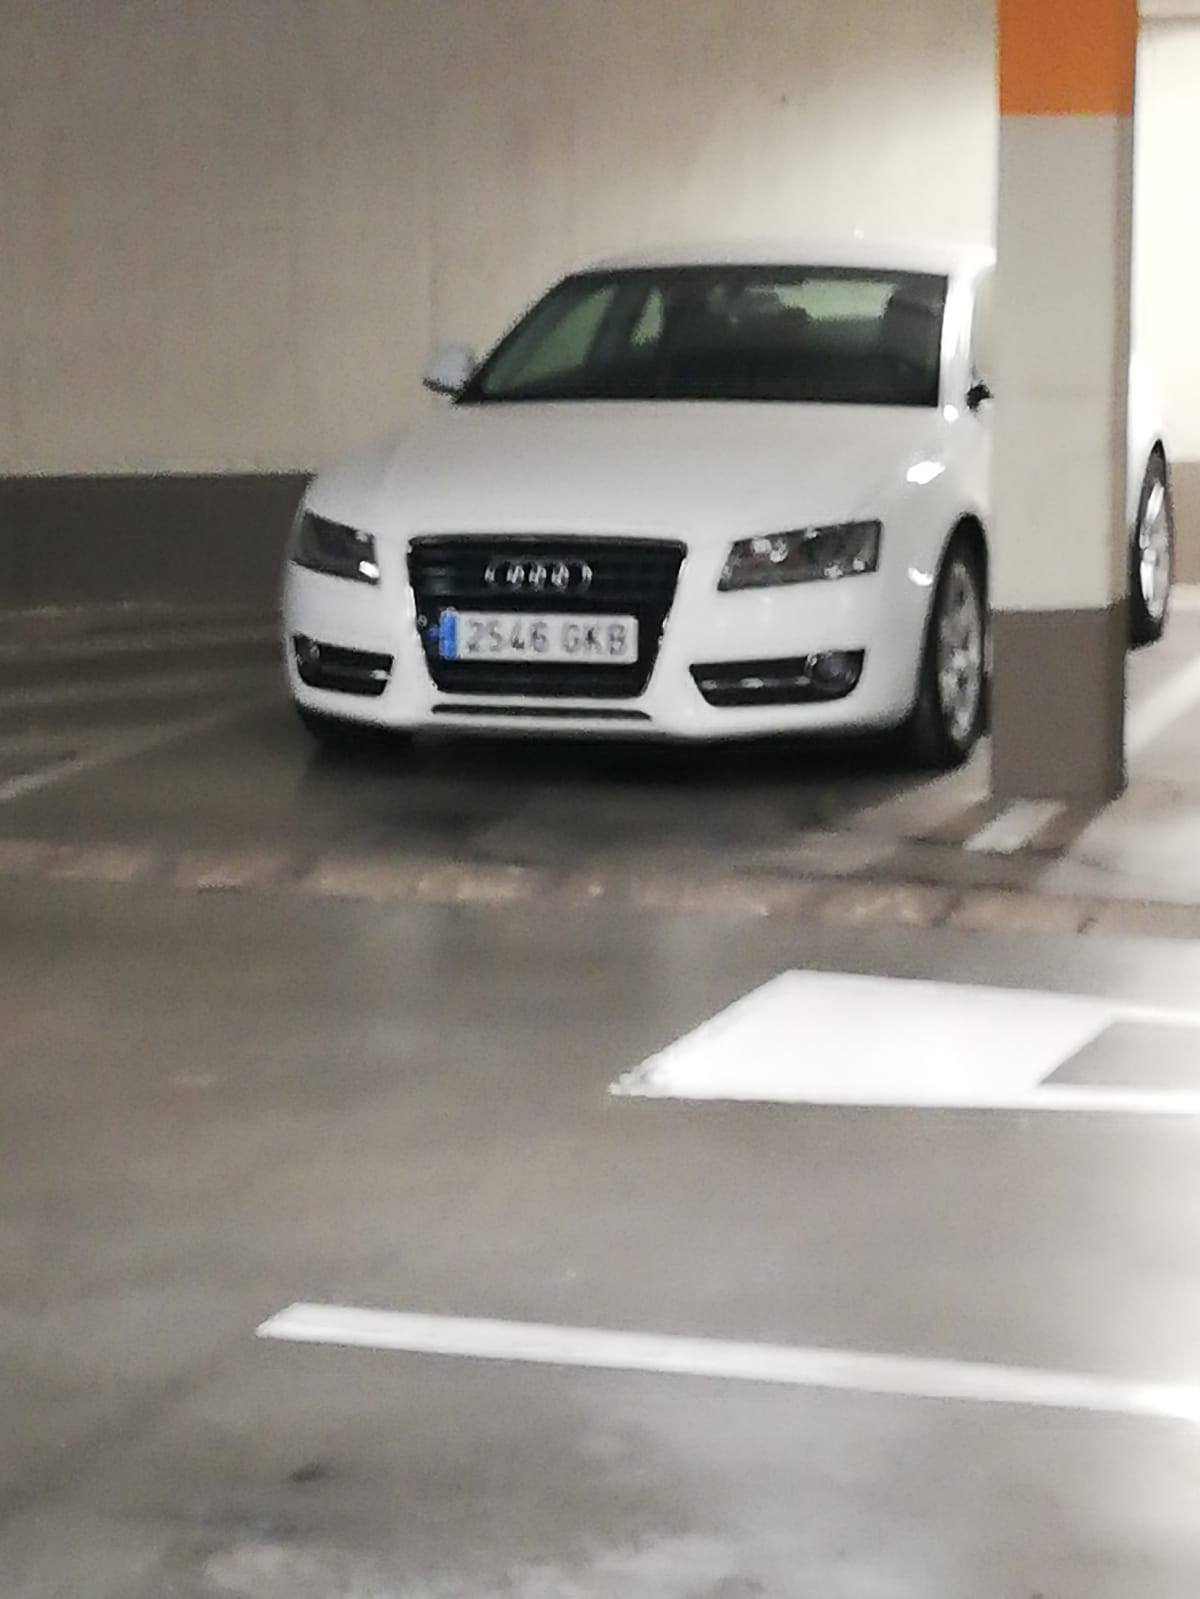Car: (281, 231, 993, 785)
Plate: (442, 608, 639, 660)
